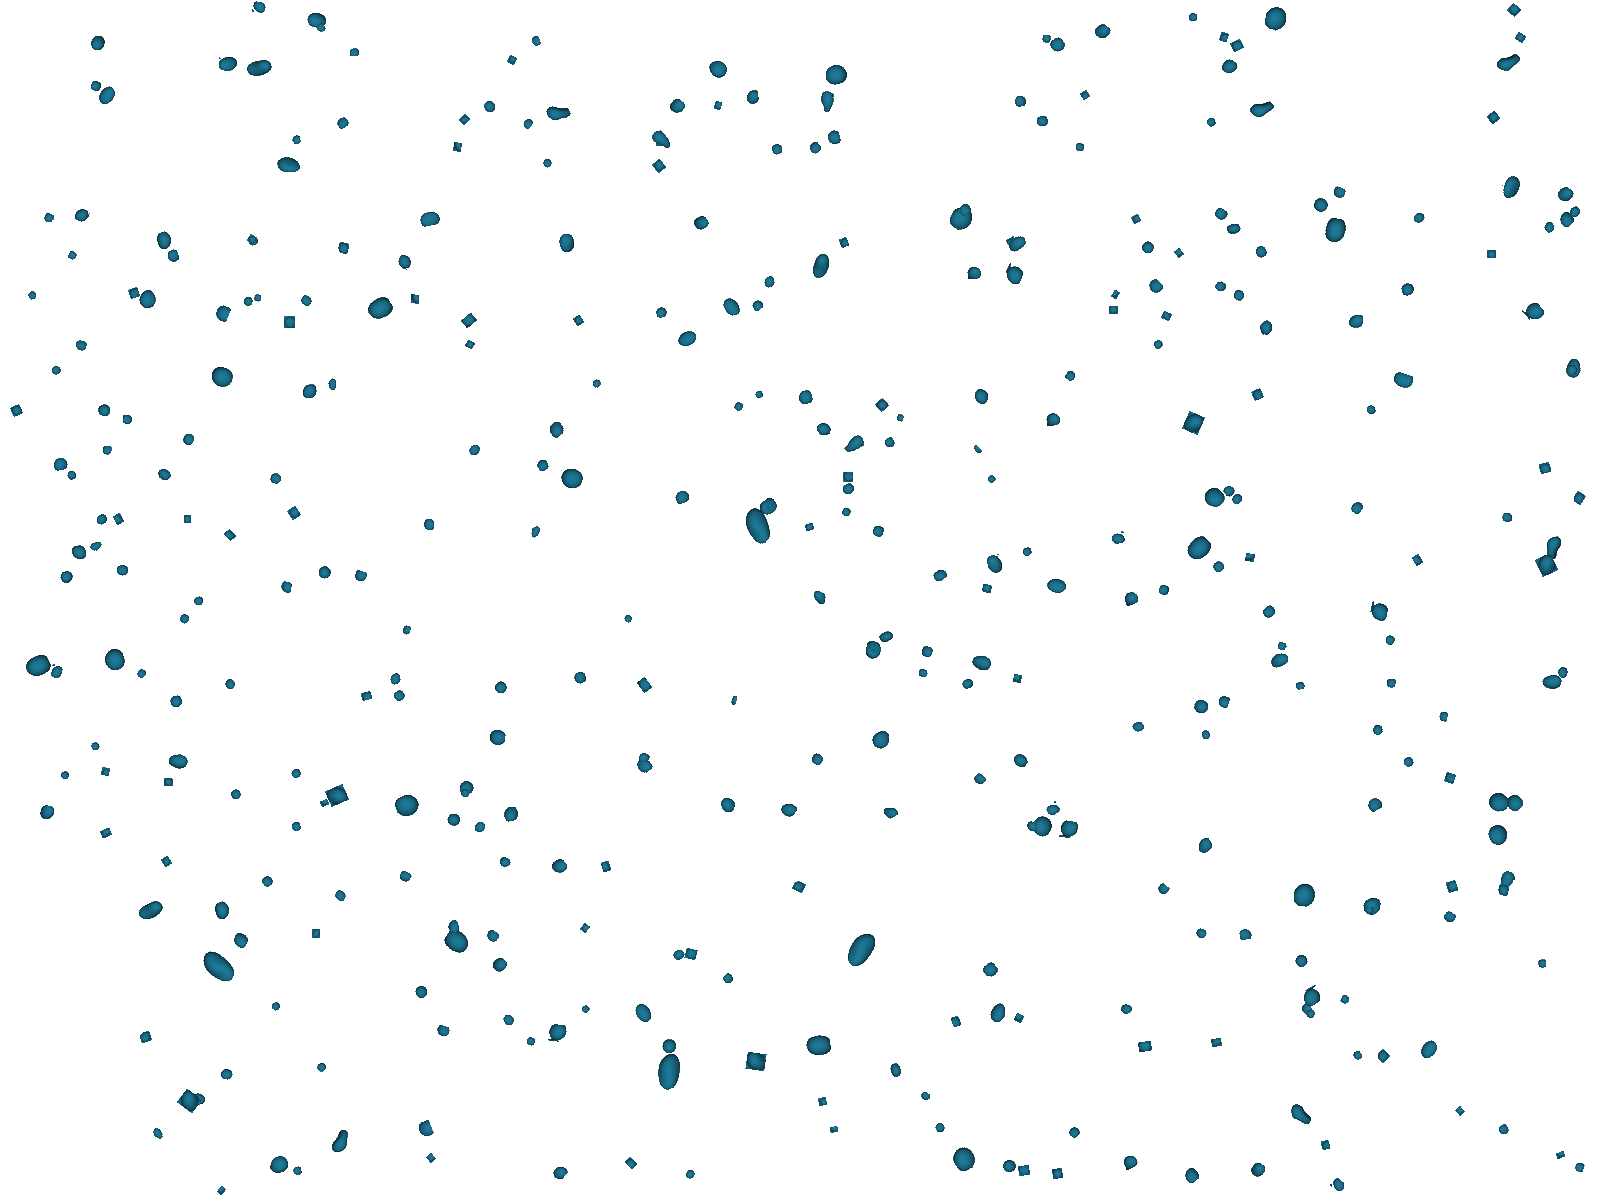drop: (734, 503, 780, 548), (649, 1049, 689, 1093), (198, 949, 238, 984), (947, 1142, 981, 1175), (244, 52, 278, 84), (136, 892, 169, 926), (1197, 482, 1230, 514), (391, 790, 425, 822), (847, 932, 877, 967), (946, 202, 978, 234), (1183, 532, 1214, 565), (1482, 787, 1513, 819), (364, 292, 396, 324), (21, 650, 54, 681), (441, 926, 472, 957), (1026, 811, 1057, 839), (273, 151, 304, 180), (100, 644, 129, 674), (134, 286, 163, 314), (207, 363, 236, 391), (1247, 95, 1276, 122), (1494, 48, 1522, 76), (1264, 4, 1290, 33), (968, 650, 997, 677), (1042, 571, 1070, 597), (823, 61, 850, 87), (984, 1000, 1010, 1027), (1323, 216, 1348, 245), (1498, 174, 1524, 200), (706, 55, 732, 82), (165, 749, 191, 775), (1560, 355, 1586, 382), (1521, 299, 1547, 325), (176, 1088, 203, 1114), (1414, 1037, 1441, 1063), (92, 83, 118, 108), (558, 466, 585, 492), (755, 495, 781, 521), (1180, 410, 1206, 436), (324, 783, 350, 808), (1288, 1102, 1315, 1126), (649, 127, 674, 153), (805, 1034, 831, 1058), (1534, 552, 1558, 579), (544, 101, 572, 124), (811, 250, 833, 279), (1293, 882, 1317, 908), (1484, 822, 1509, 846), (1540, 671, 1565, 695), (1002, 262, 1026, 287), (1299, 984, 1324, 1008), (1494, 868, 1518, 894), (842, 432, 867, 456), (212, 899, 236, 923), (869, 729, 893, 753), (1502, 792, 1526, 816), (1390, 371, 1415, 393), (154, 229, 176, 253), (632, 753, 655, 776), (455, 776, 477, 799), (418, 207, 442, 228), (1361, 896, 1383, 918), (1144, 276, 1167, 297), (1220, 55, 1241, 78), (548, 1161, 569, 1184), (1193, 834, 1214, 857), (777, 798, 799, 821), (1368, 600, 1390, 623), (1545, 534, 1563, 560), (210, 303, 232, 324), (413, 1119, 435, 1141), (666, 96, 688, 117), (1180, 1165, 1202, 1186), (1555, 184, 1576, 205), (546, 418, 567, 440), (722, 294, 742, 316), (971, 386, 991, 408), (1005, 234, 1028, 255), (745, 1051, 767, 1071), (331, 1129, 349, 1155), (675, 328, 697, 348), (489, 955, 510, 976), (1364, 793, 1385, 814), (864, 640, 884, 662), (980, 961, 1002, 981), (1047, 35, 1068, 55), (1058, 819, 1080, 839), (1191, 697, 1212, 717), (1310, 195, 1332, 216), (1556, 209, 1577, 229), (549, 856, 569, 877), (1256, 318, 1277, 338), (217, 54, 239, 73), (558, 231, 576, 255), (690, 213, 711, 233), (231, 930, 251, 950), (1000, 1156, 1020, 1176), (814, 418, 834, 439), (1092, 21, 1112, 42), (547, 1024, 568, 1042), (305, 11, 328, 29), (1267, 652, 1290, 669), (819, 89, 835, 113), (1249, 1160, 1267, 1180), (671, 487, 692, 505), (718, 795, 737, 816), (1293, 950, 1311, 971), (879, 802, 900, 821), (635, 1001, 653, 1022), (986, 553, 1004, 575), (270, 1155, 289, 1174), (488, 729, 506, 747), (412, 982, 431, 1001), (483, 926, 501, 945), (1138, 239, 1157, 258), (491, 679, 510, 698), (810, 589, 829, 608), (1260, 603, 1279, 621), (1211, 205, 1230, 224), (1121, 1152, 1140, 1171), (1123, 589, 1141, 608), (445, 811, 464, 829), (479, 97, 498, 116), (1012, 751, 1031, 770), (50, 454, 71, 471), (71, 543, 88, 563), (824, 129, 842, 147), (94, 401, 113, 418), (806, 139, 824, 158), (445, 918, 462, 937), (660, 1037, 678, 1056), (1563, 362, 1581, 381), (1251, 242, 1269, 261), (73, 205, 91, 224), (396, 253, 414, 271), (501, 805, 520, 823), (190, 1090, 208, 1108), (796, 388, 814, 406), (58, 568, 76, 586), (1348, 498, 1366, 516), (1329, 1176, 1347, 1194), (1044, 800, 1062, 818), (571, 668, 588, 686), (391, 687, 408, 705), (931, 566, 949, 584), (334, 113, 351, 131), (164, 247, 181, 265), (220, 676, 238, 693), (1221, 482, 1238, 499), (839, 482, 857, 499), (636, 676, 653, 695), (1346, 313, 1364, 329), (808, 751, 826, 768), (300, 383, 317, 400), (460, 313, 477, 329), (1110, 529, 1128, 546), (1209, 558, 1227, 575), (180, 430, 197, 447), (1441, 909, 1458, 926), (1066, 1124, 1083, 1141), (877, 629, 894, 645), (1044, 411, 1062, 427), (956, 200, 973, 218), (1541, 219, 1558, 236), (1212, 279, 1230, 295), (670, 945, 687, 963), (156, 466, 173, 483), (743, 89, 760, 106), (534, 458, 551, 474), (918, 644, 935, 661), (1154, 881, 1170, 897), (750, 296, 766, 313), (397, 868, 413, 885), (971, 771, 988, 788), (88, 78, 105, 95), (260, 874, 276, 890), (39, 804, 55, 821), (1400, 281, 1416, 297), (93, 511, 110, 527), (636, 750, 653, 766), (1567, 204, 1584, 221), (1130, 718, 1146, 735), (500, 1012, 517, 1029), (325, 376, 341, 392), (682, 1166, 698, 1182), (1374, 1047, 1391, 1064), (433, 1024, 451, 1039), (888, 1061, 903, 1079), (1330, 185, 1348, 200), (1506, 3, 1522, 18), (286, 505, 302, 521), (651, 158, 666, 174), (49, 663, 64, 679), (251, 0, 267, 15), (168, 695, 184, 710), (721, 971, 736, 987), (1063, 368, 1078, 384), (1495, 1122, 1511, 1138), (882, 435, 897, 451), (871, 523, 886, 539), (1231, 287, 1247, 303), (219, 1066, 236, 1082), (312, 19, 328, 35), (353, 568, 369, 584), (496, 855, 513, 870), (466, 442, 483, 458), (88, 538, 103, 555), (1571, 490, 1587, 505), (791, 879, 808, 894), (874, 397, 889, 413), (1225, 222, 1242, 236), (1230, 38, 1245, 53), (1382, 632, 1397, 647), (268, 471, 283, 487), (1157, 582, 1172, 597), (1303, 1006, 1318, 1021), (1151, 337, 1167, 352), (1369, 722, 1385, 737), (66, 250, 81, 265), (1338, 993, 1353, 1008), (1216, 695, 1231, 710), (523, 1034, 538, 1049), (839, 505, 854, 521), (289, 766, 304, 782), (113, 563, 129, 579), (299, 292, 314, 308), (333, 887, 348, 903), (1198, 727, 1213, 742), (268, 998, 283, 1013), (57, 766, 72, 782), (228, 787, 243, 802), (1401, 754, 1416, 769), (9, 403, 24, 418), (1250, 387, 1265, 402), (91, 35, 105, 50), (1445, 879, 1459, 894), (317, 565, 333, 579), (42, 211, 55, 226), (522, 116, 535, 131), (1194, 926, 1208, 942), (1272, 640, 1288, 654), (289, 1163, 304, 1177), (968, 265, 981, 280), (314, 1060, 329, 1074), (191, 594, 207, 608), (1034, 115, 1049, 129), (472, 821, 488, 834), (529, 524, 543, 539), (88, 737, 102, 753), (1487, 110, 1500, 125), (1136, 1040, 1153, 1053), (1538, 461, 1552, 475), (1572, 1160, 1586, 1174), (770, 142, 784, 156), (1230, 492, 1243, 505), (1412, 211, 1426, 224), (66, 468, 79, 482), (1020, 545, 1034, 558), (1204, 115, 1218, 129), (654, 305, 668, 319), (459, 787, 472, 800), (732, 400, 746, 413), (178, 613, 191, 626), (223, 528, 237, 542), (151, 1126, 165, 1139), (684, 947, 698, 961), (1017, 1163, 1031, 1177), (590, 376, 603, 389), (1351, 1049, 1364, 1063), (134, 667, 147, 681), (624, 1156, 637, 1170), (336, 241, 350, 255), (139, 1030, 152, 1044), (1497, 884, 1511, 897), (1443, 771, 1456, 785), (127, 286, 141, 300), (1238, 928, 1254, 940), (960, 677, 975, 689), (1119, 1003, 1134, 1016), (838, 236, 850, 250), (1005, 234, 1018, 248), (160, 855, 173, 868), (289, 821, 302, 833), (918, 1090, 932, 1103), (1500, 511, 1514, 523), (1556, 666, 1569, 679), (1364, 403, 1378, 416), (934, 1121, 946, 1134), (100, 827, 113, 839), (1411, 553, 1424, 567), (600, 860, 612, 874), (112, 512, 125, 526), (916, 667, 930, 679), (950, 1015, 963, 1029), (459, 113, 471, 126), (101, 445, 113, 458), (121, 413, 134, 426), (1014, 95, 1027, 107), (422, 518, 435, 531), (1026, 821, 1038, 833), (1073, 141, 1086, 154), (25, 289, 38, 301), (572, 314, 585, 326), (1514, 32, 1527, 44), (360, 689, 373, 702), (1437, 710, 1449, 724), (530, 34, 542, 48), (291, 134, 302, 147), (580, 921, 591, 934), (425, 1152, 437, 1163), (1173, 247, 1186, 258), (1454, 1105, 1466, 1117), (1243, 552, 1256, 563), (1160, 310, 1173, 321), (464, 339, 476, 350), (1013, 1012, 1026, 1024), (1385, 678, 1397, 689), (280, 581, 292, 592), (1294, 679, 1306, 691), (401, 624, 412, 637), (1187, 11, 1199, 23), (246, 233, 258, 245), (1078, 89, 1091, 101), (986, 473, 998, 485), (580, 1003, 592, 1015), (842, 471, 854, 483), (973, 444, 984, 456), (348, 47, 362, 57), (1209, 1037, 1223, 1047), (1218, 32, 1230, 43), (215, 1185, 227, 1196), (1110, 289, 1121, 300), (1300, 1002, 1311, 1013), (1130, 213, 1141, 224), (506, 54, 518, 66), (816, 1095, 828, 1107), (763, 276, 775, 287), (389, 673, 401, 684), (283, 316, 295, 328), (247, 236, 260, 246), (713, 100, 723, 111), (1320, 1139, 1330, 1151), (311, 928, 321, 939), (1555, 1150, 1566, 1160), (319, 798, 330, 808), (804, 522, 815, 532), (50, 366, 62, 376), (243, 296, 253, 308), (100, 766, 111, 776), (1537, 958, 1547, 969), (1041, 34, 1052, 44), (76, 340, 87, 350), (540, 158, 552, 168), (753, 389, 765, 400), (624, 613, 634, 624), (1107, 305, 1119, 315), (981, 584, 993, 594), (1052, 1168, 1063, 1179), (729, 695, 738, 707), (656, 137, 666, 147), (409, 294, 420, 304), (829, 1124, 839, 1134), (894, 413, 905, 424), (1364, 906, 1374, 915), (454, 142, 462, 153), (183, 514, 191, 524), (253, 292, 262, 303), (1487, 250, 1497, 258), (164, 778, 173, 787), (1013, 674, 1022, 683)
